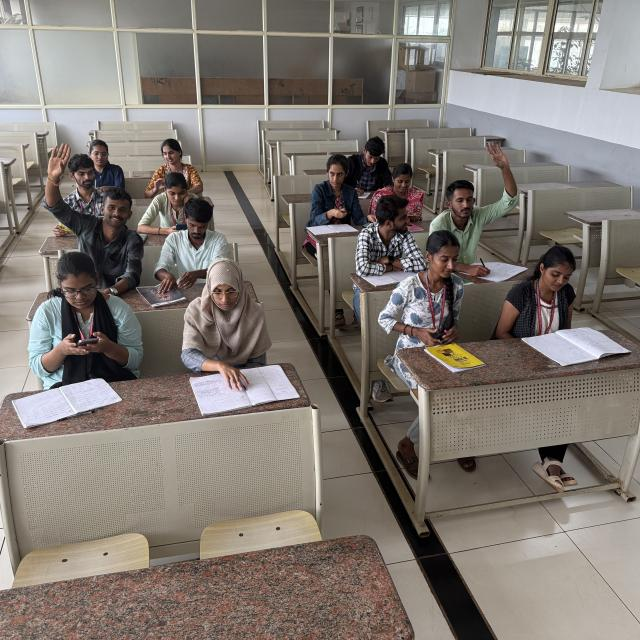Hand Rising: (36, 138, 133, 251), (447, 140, 524, 252)
Reading: (178, 259, 276, 401), (508, 243, 591, 354)
Using Phone: (28, 249, 148, 372), (144, 170, 197, 234), (384, 164, 426, 224)
Writing: (444, 203, 522, 281), (348, 133, 390, 197)
